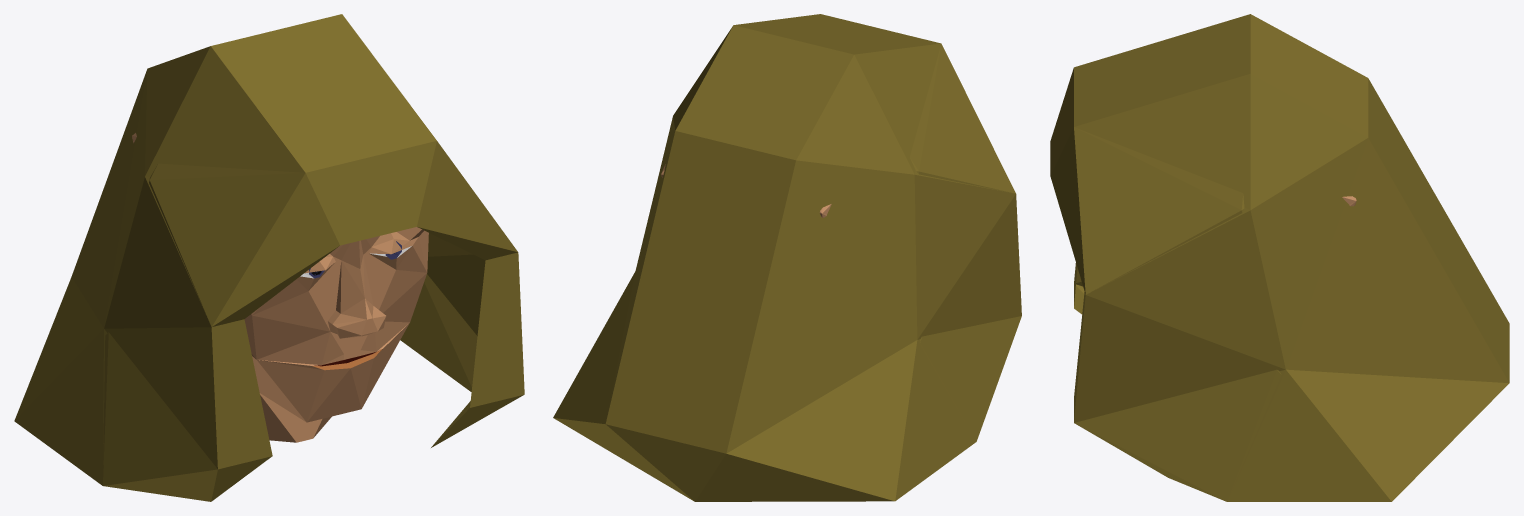
Rendered from model_48_npc_head.obj.
3 views of the same model, side by side, from view 1: azimuth 30°, elevation 25°; view 2: azimuth 150°, elevation 25°; view 3: azimuth 270°, elevation 25° (orthographic). The views are drawn at different scales.
Parts seen in each view (by area): view 1: 48; view 2: 48; view 3: 48.
Part boxes in pixels (bbox=[...]): 48: bbox=[14, 14, 524, 501]; 48: bbox=[553, 14, 1021, 501]; 48: bbox=[1050, 14, 1509, 501].
Size of the model in its own units: 136 by 148 by 156.
